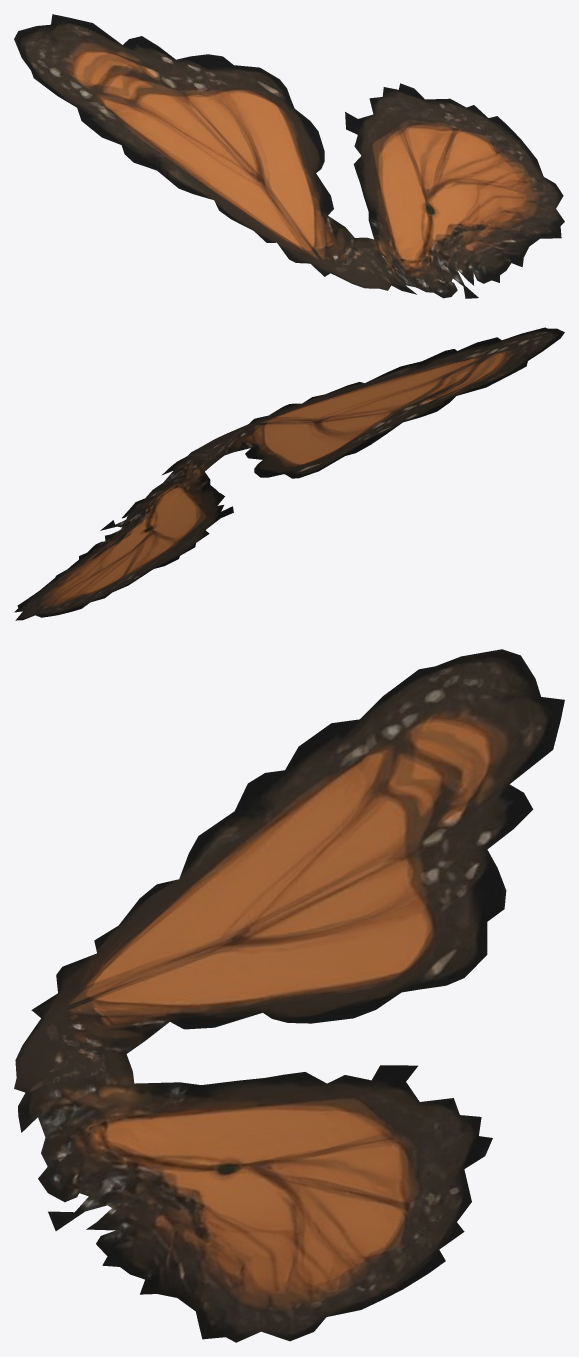
File: mariposaAlaDer.obj
3 renders of one model, top to bottom at view 1: azimuth 30°, elevation 25°; view 2: azimuth 210°, elevation 25°; view 3: azimuth 270°, elevation 25°, orthographic. The views are drawn at different scales.
Parts seen in each view (by area): view 1: alaDer; view 2: alaDer; view 3: alaDer.
Boxes of the visible parts, x1,y1,x2,y2 form: alaDer: (14, 14, 564, 298); alaDer: (14, 327, 564, 620); alaDer: (14, 649, 564, 1342).
Size of the model in its own units: 0.0541 by 0.0252 by 0.0349.
Materials: 1 (1 with a texture image).
